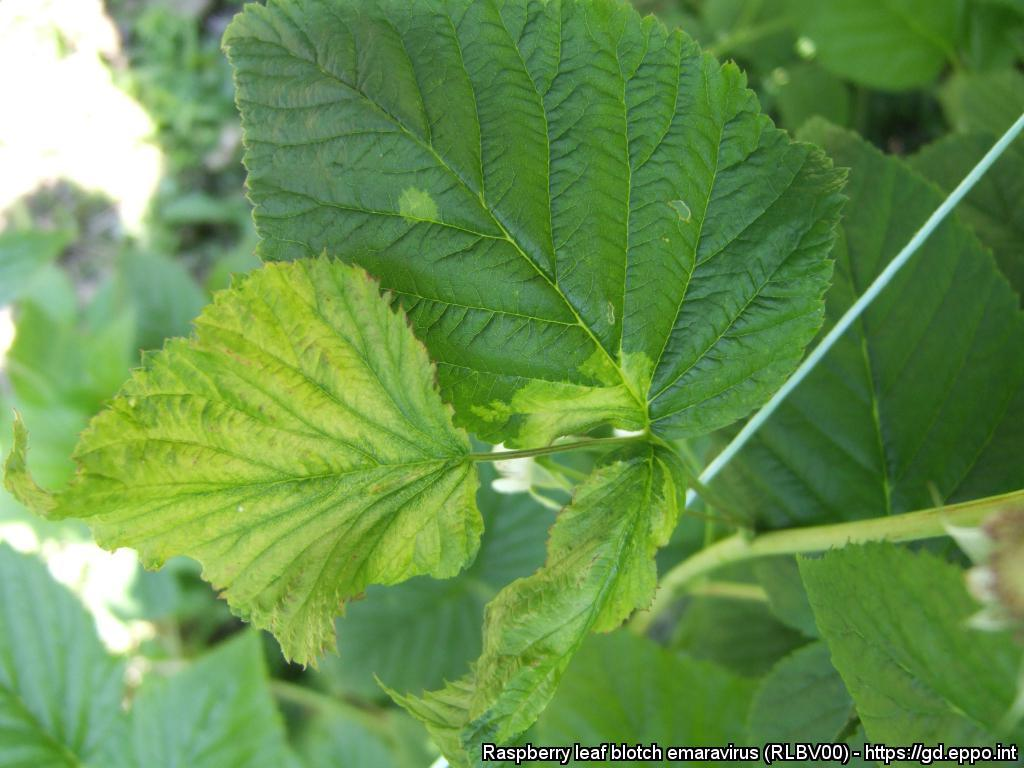Raspberry leaf: (217, 1, 854, 470), (1, 242, 491, 664), (383, 444, 686, 745)
